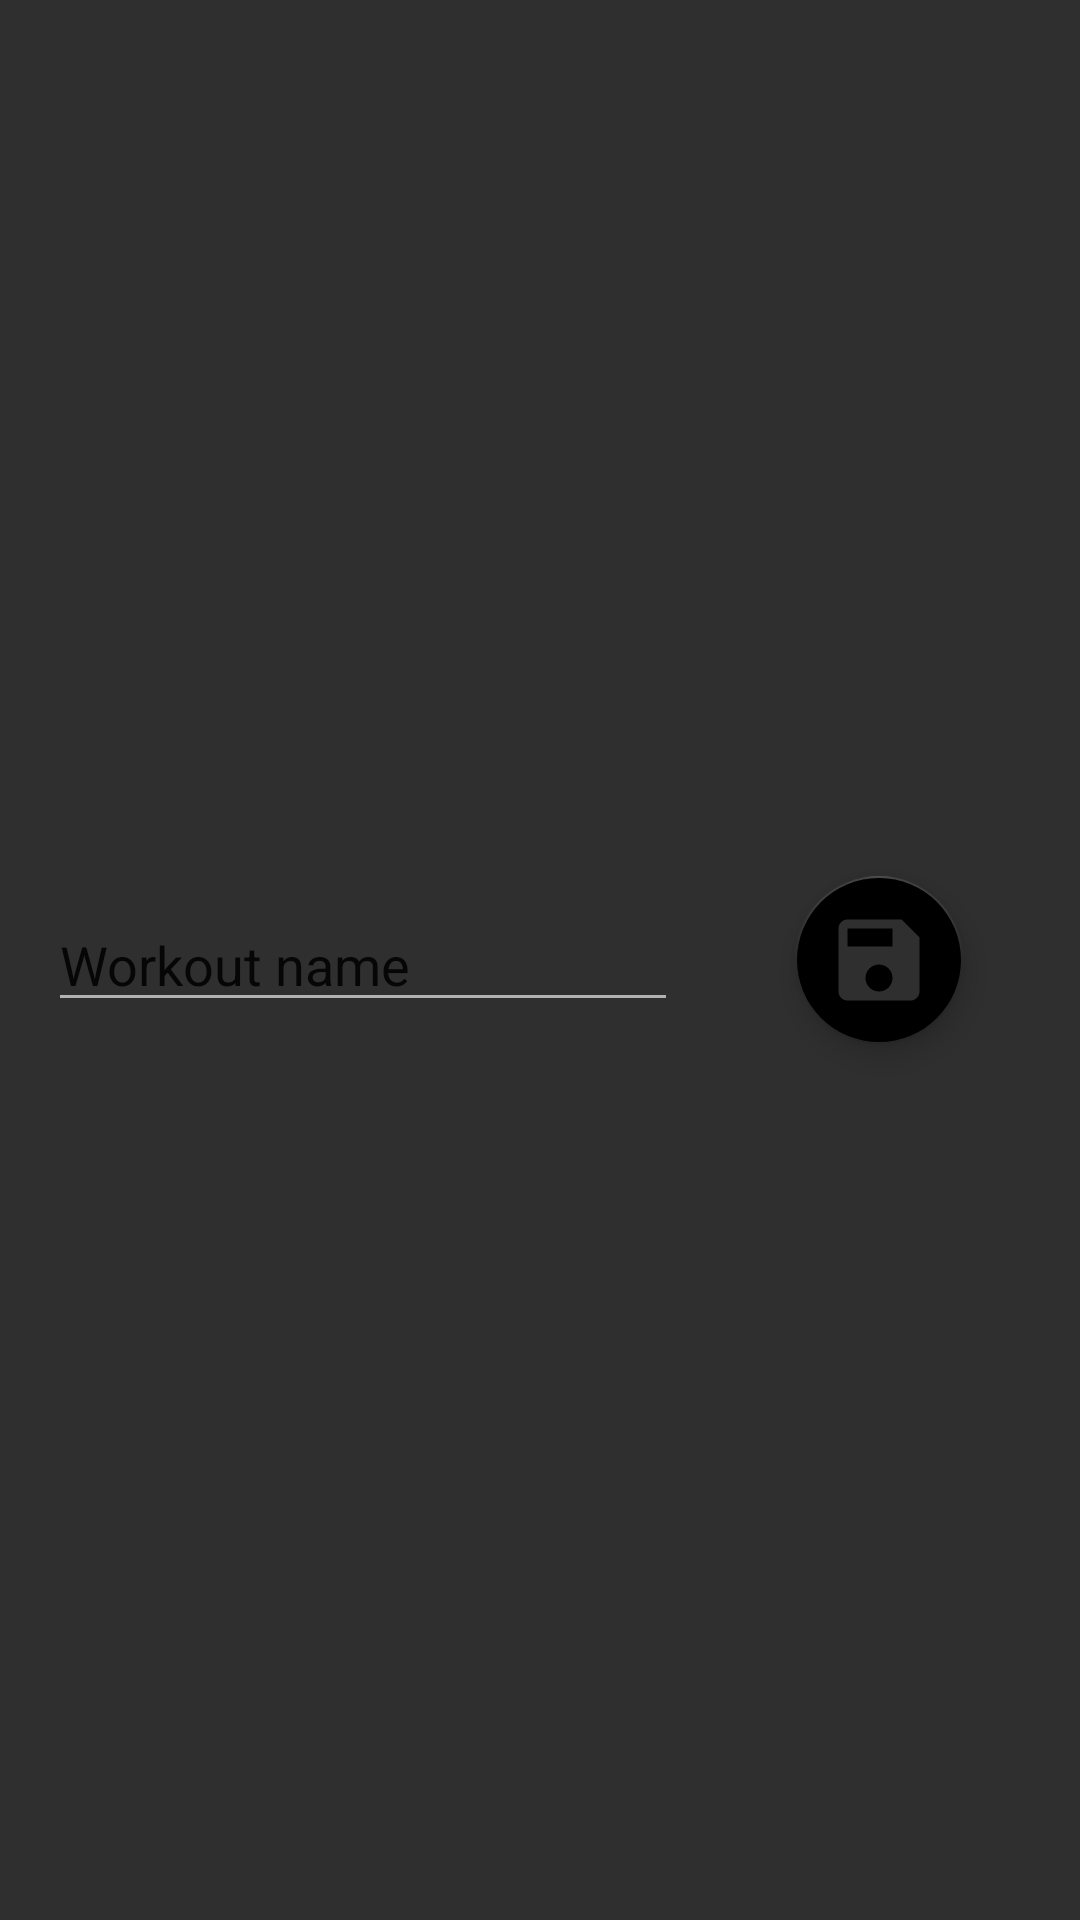

Named icons in this screenshot (1080×1920) and their centers, point (x, y):
save: point (879, 959)
